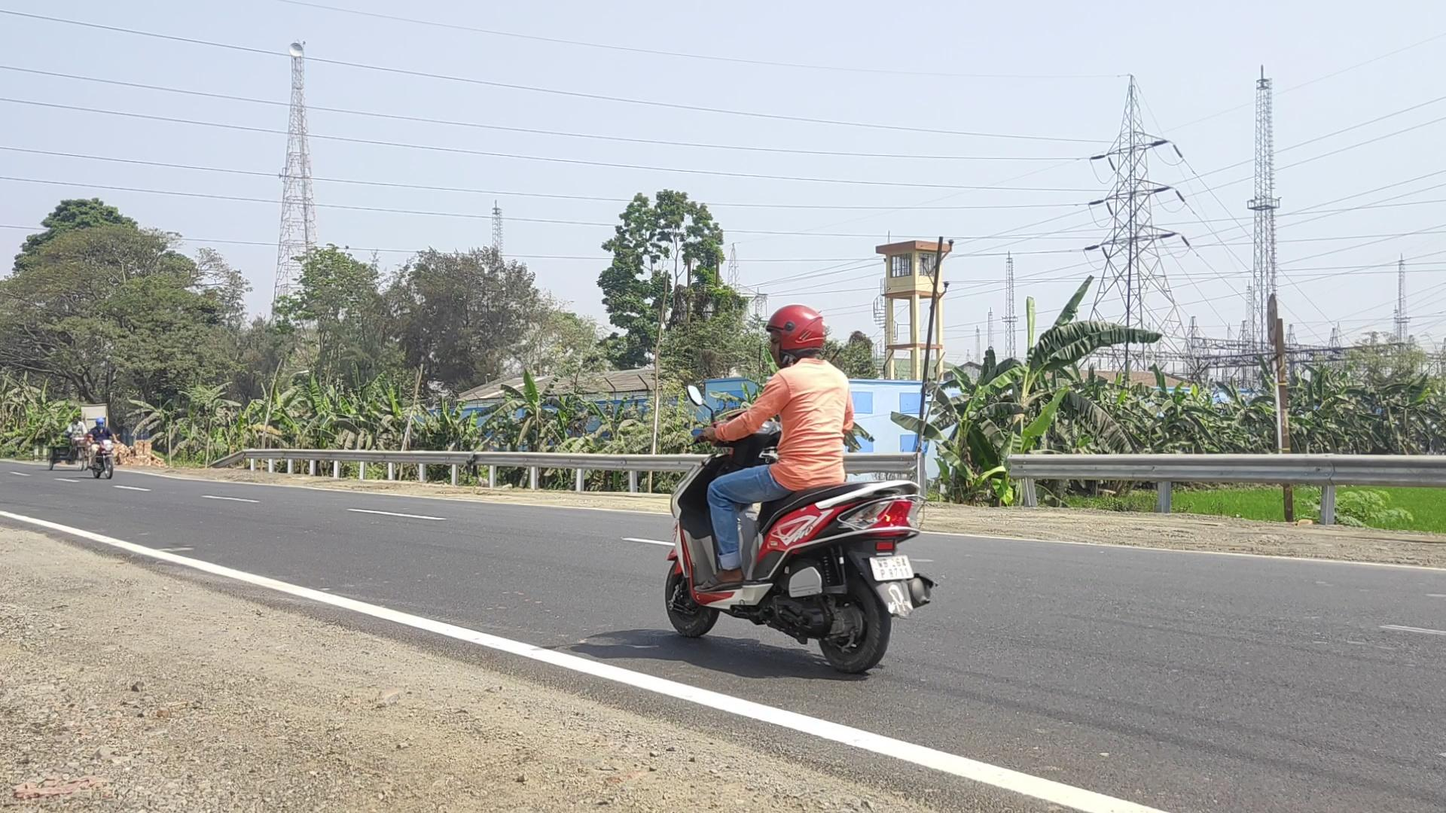bike: (664, 305, 935, 675), (85, 418, 120, 480)
